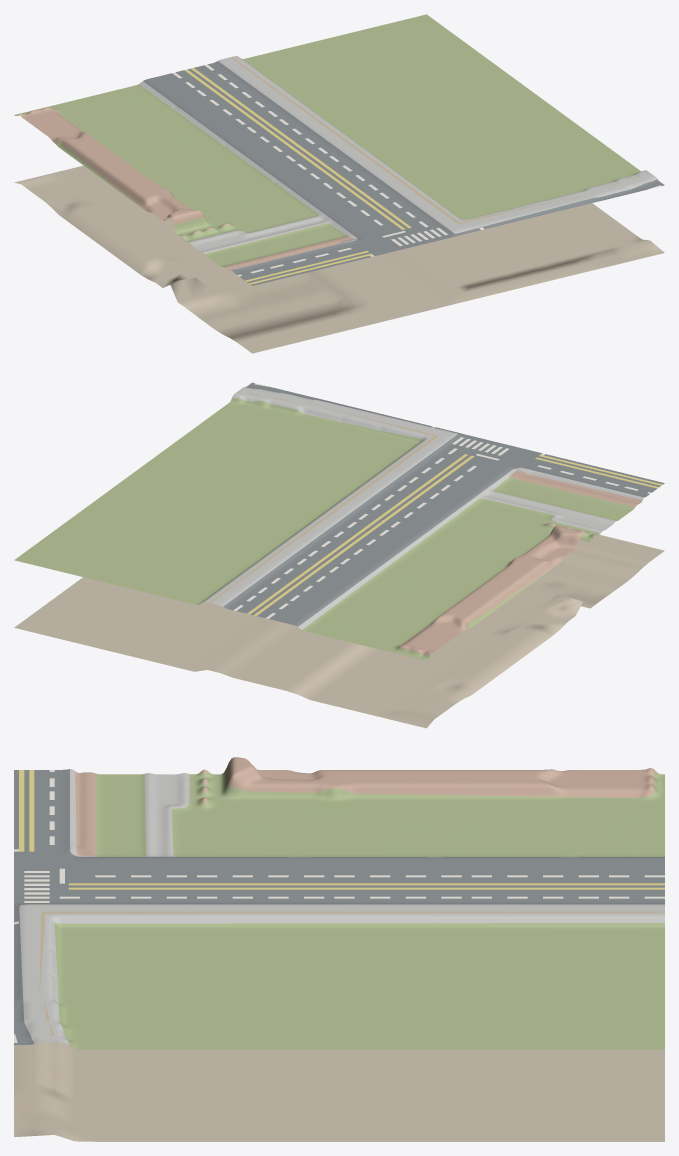
The picture shows the model from 3 angles, top to bottom: view 1: azimuth 30°, elevation 25°; view 2: azimuth 150°, elevation 25°; view 3: azimuth 270°, elevation 25°; orthographic projection. The views are drawn at different scales.
Visible parts, largest first — view 1: s_-4_-4__grass, s_-4_-4__soil, s_-4_-4__asphalt, s_-4_-4__stone_paving, s_-4_-4__brick_paving, s_-4_-4__yellow_marking, s_-4_-4__white_marking, s_-4_-4__timber_deck; view 2: s_-4_-4__grass, s_-4_-4__soil, s_-4_-4__asphalt, s_-4_-4__stone_paving, s_-4_-4__brick_paving, s_-4_-4__yellow_marking, s_-4_-4__white_marking, s_-4_-4__timber_deck; view 3: s_-4_-4__grass, s_-4_-4__soil, s_-4_-4__asphalt, s_-4_-4__stone_paving, s_-4_-4__brick_paving, s_-4_-4__yellow_marking, s_-4_-4__white_marking, s_-4_-4__timber_deck.
Part boxes in pixels (box(x1,y1,x2,y2)): s_-4_-4__grass: box(14, 14, 640, 266); s_-4_-4__soil: box(14, 165, 664, 353); s_-4_-4__asphalt: box(143, 61, 664, 285); s_-4_-4__stone_paving: box(139, 56, 656, 270); s_-4_-4__brick_paving: box(19, 107, 353, 270); s_-4_-4__yellow_marking: box(184, 68, 411, 284); s_-4_-4__white_marking: box(172, 64, 661, 276); s_-4_-4__timber_deck: box(230, 57, 649, 223); s_-4_-4__grass: box(14, 398, 634, 660); s_-4_-4__soil: box(14, 534, 664, 728); s_-4_-4__asphalt: box(223, 382, 664, 626); s_-4_-4__stone_paving: box(203, 387, 643, 629); s_-4_-4__brick_paving: box(398, 470, 642, 654); s_-4_-4__yellow_marking: box(247, 454, 662, 615); s_-4_-4__white_marking: box(233, 383, 651, 618); s_-4_-4__timber_deck: box(209, 392, 437, 602); s_-4_-4__grass: box(54, 766, 664, 1049); s_-4_-4__soil: box(14, 1042, 664, 1141); s_-4_-4__asphalt: box(14, 769, 664, 1044); s_-4_-4__stone_paving: box(19, 769, 664, 1045); s_-4_-4__brick_paving: box(75, 757, 654, 856); s_-4_-4__yellow_marking: box(19, 770, 664, 889); s_-4_-4__white_marking: box(14, 770, 664, 1042); s_-4_-4__timber_deck: box(39, 911, 664, 1042).
Size of the model in its own units: 128 by 24.01 by 128.
